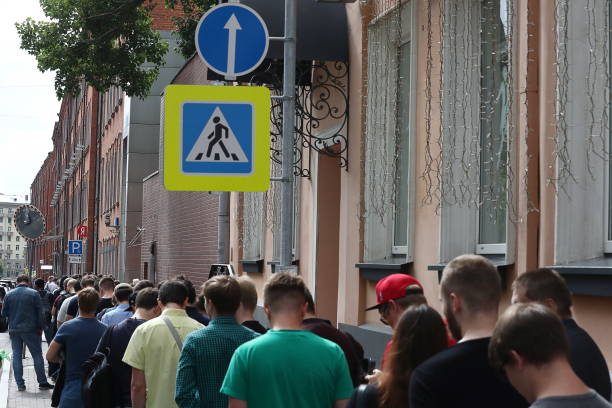pedestrian: (179, 99, 254, 176)
